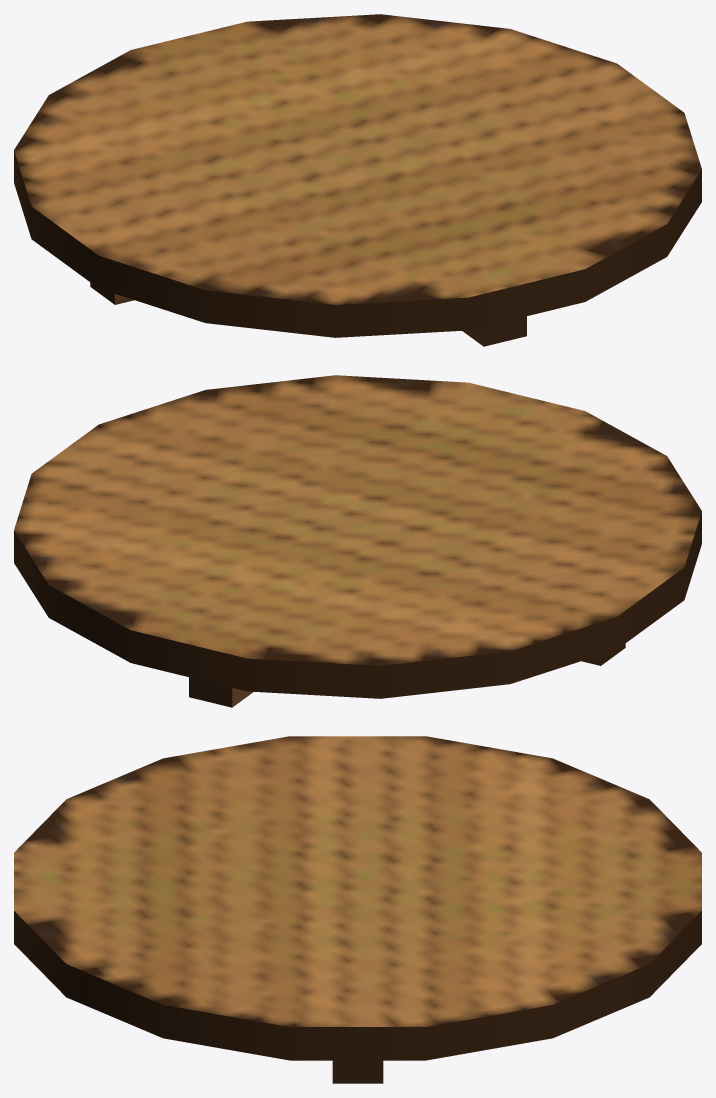
Rendered from Kit_Tower_Floor.fbx.
3 renders of one model, top to bottom at view 1: azimuth 30°, elevation 25°; view 2: azimuth 150°, elevation 25°; view 3: azimuth 270°, elevation 25°, orthographic.
Parts seen in each view (by area): view 1: Kit_Tower_Floor_LOD0; view 2: Kit_Tower_Floor_LOD0; view 3: Kit_Tower_Floor_LOD0.
Part boxes in pixels (left/top/right/bottom): Kit_Tower_Floor_LOD0: left=14, top=14, right=701, bottom=346; Kit_Tower_Floor_LOD0: left=14, top=375, right=701, bottom=707; Kit_Tower_Floor_LOD0: left=14, top=736, right=701, bottom=1083.
Size of what is drawn, in the model's own units: 2.98 by 0.36 by 2.98.
1 material, 1 textured.
